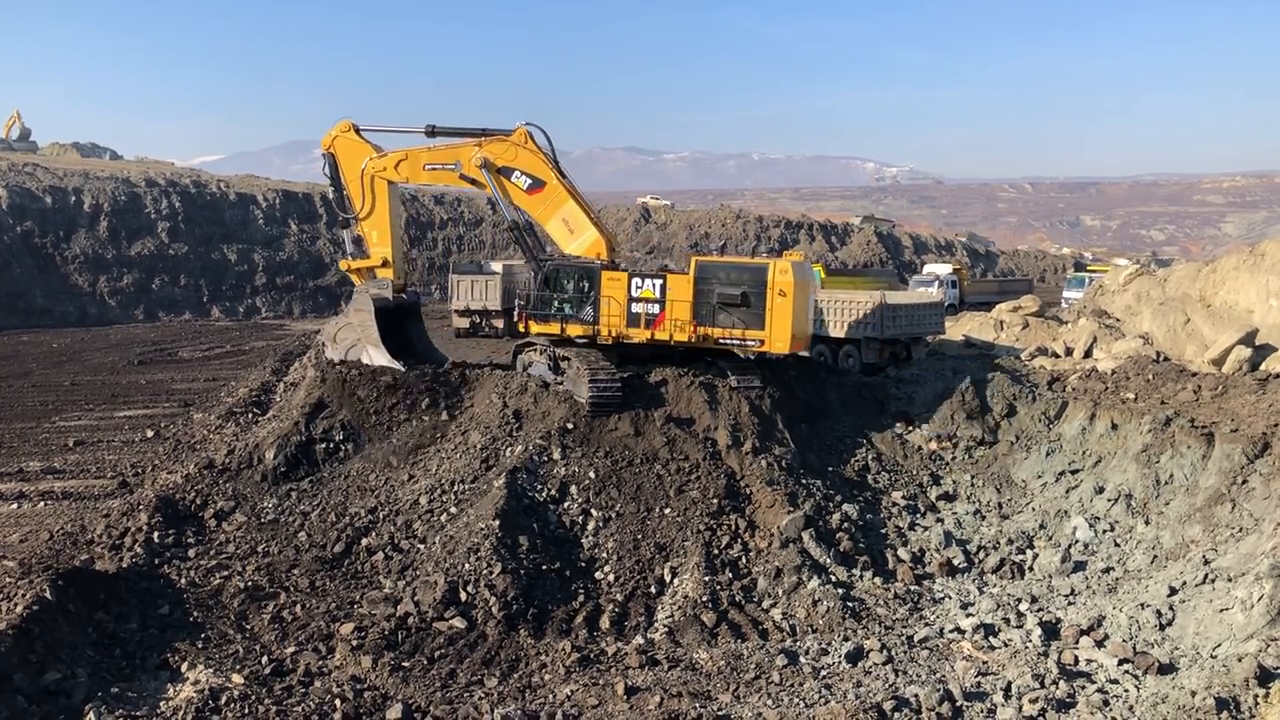empty: (298, 275, 456, 385)
